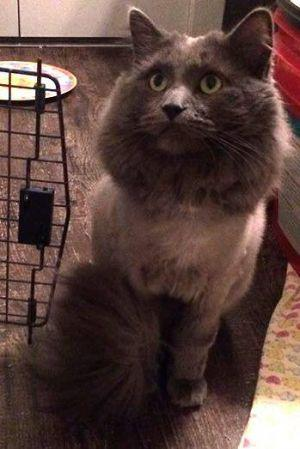persian: (89, 4, 294, 221)
